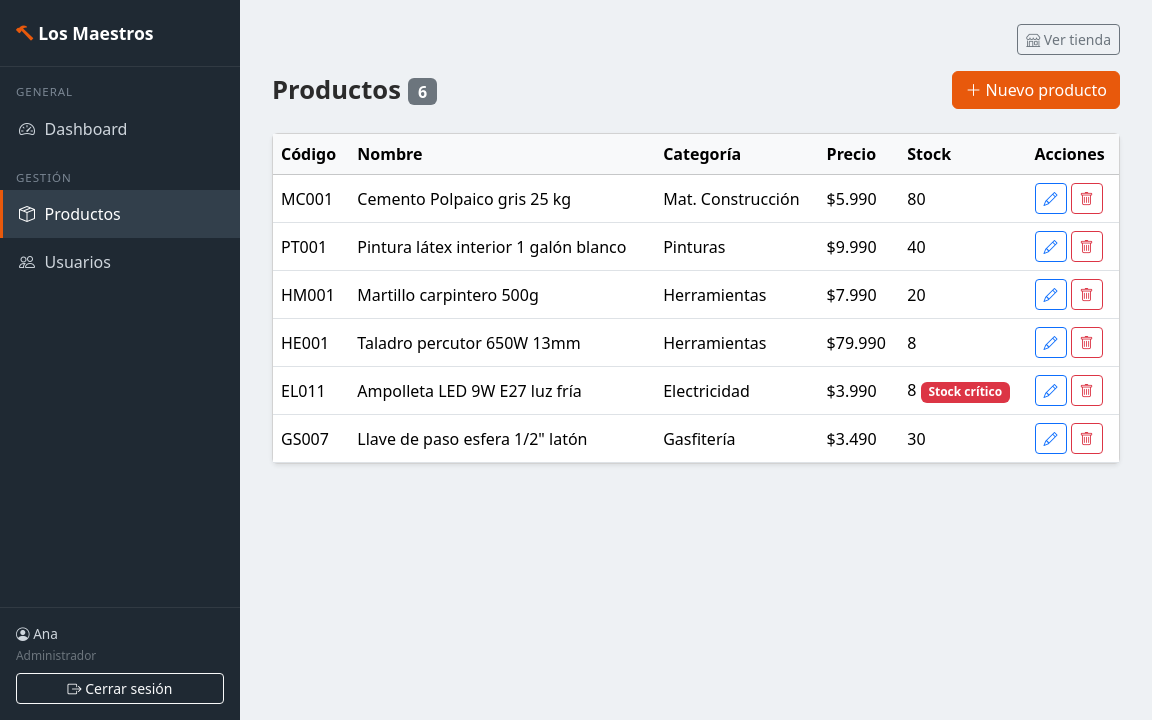
Test: Panel de administración › eliminar un producto pide confirmación (mock de window.confirm)
Step 1. Click the button named "Eliminar Martillo carpintero 500g" → [1086, 294], box x1=1070 y1=279 x2=1102 y2=310
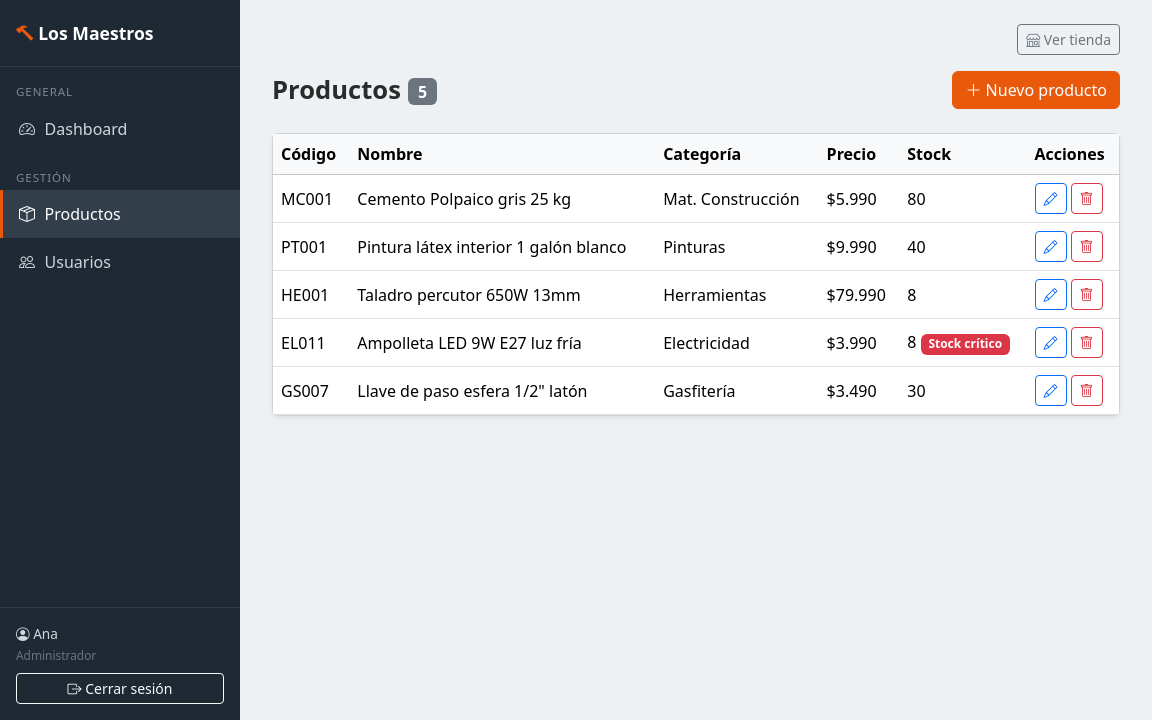
Now the text "Martillo carpintero 500g" is gone
